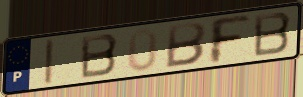0: (125, 27, 160, 73)
B: (163, 21, 208, 70), (252, 10, 294, 59), (79, 32, 120, 81)
F: (207, 14, 253, 66)
I: (43, 37, 56, 87)
